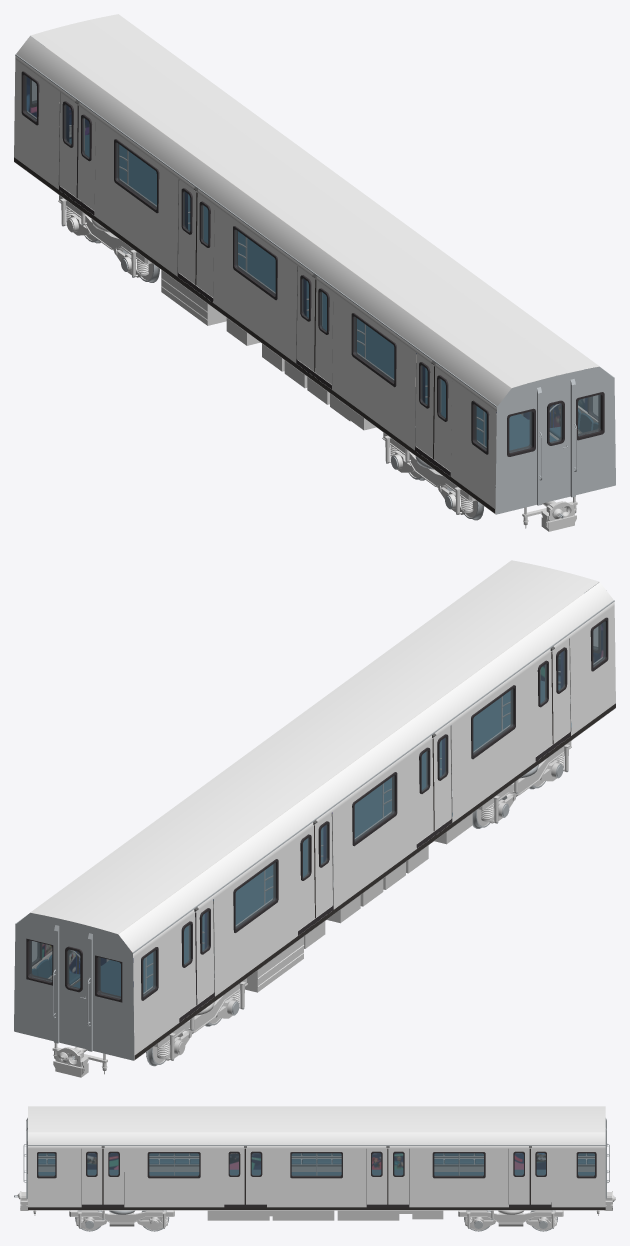
The model's file is car-7.glb.
The picture shows the model from 3 angles, top to bottom: view 1: azimuth 30°, elevation 25°; view 2: azimuth 150°, elevation 25°; view 3: azimuth 270°, elevation 25°; orthographic projection. The views are drawn at different scales.
Visible parts, largest first — view 1: Mesh492.054, Mesh589.006, Mesh253.011, Mesh560.006, Mesh524.012, Cube.456, Cube.457, Cube.455, Mesh11.006, Mesh511.006, Mesh31.006, Cube.494 (+8 smaller); view 2: Mesh492.054, Mesh589.006, Mesh584.006, Mesh253.012, Mesh510.012, Cube.455, Cube.456, Cube.457, Mesh11.006, Mesh511.006, Mesh27.006, Cube.505 (+8 smaller); view 3: Mesh492.054, Mesh492.055, Cube.449, Cube.450, Cube.448, Mesh589.006, Mesh5.006, Mesh4.006, Mesh9.006, Mesh256.006, Mesh278.006, Mesh283.006 (+24 smaller).
Part boxes in pixels (left/top/right/bottom): Mesh492.054: left=14, top=14, right=599, bottom=514; Mesh589.006: left=69, top=134, right=556, bottom=450; Mesh253.011: left=495, top=376, right=555, bottom=514; Mesh560.006: left=555, top=366, right=615, bottom=499; Mesh524.012: left=542, top=395, right=570, bottom=493; Cube.456: left=235, top=230, right=275, bottom=295; Cube.457: left=116, top=143, right=156, bottom=208; Cube.455: left=354, top=316, right=394, bottom=382; Mesh11.006: left=161, top=270, right=226, bottom=325; Mesh511.006: left=15, top=54, right=497, bottom=407; Mesh31.006: left=541, top=500, right=576, bottom=531; Cube.494: left=578, top=394, right=600, bottom=436; Mesh492.054: left=30, top=560, right=615, bottom=1060; Mesh589.006: left=73, top=681, right=571, bottom=995; Mesh584.006: left=74, top=922, right=134, bottom=1060; Mesh253.012: left=14, top=913, right=73, bottom=1045; Mesh510.012: left=59, top=941, right=87, bottom=1039; Cube.455: left=473, top=689, right=513, bottom=754; Cube.456: left=354, top=775, right=394, bottom=841; Cube.457: left=235, top=862, right=275, bottom=928; Mesh11.006: left=245, top=937, right=303, bottom=992; Mesh511.006: left=132, top=600, right=614, bottom=953; Mesh27.006: left=53, top=1047, right=88, bottom=1077; Cube.505: left=29, top=940, right=52, bottom=981; Mesh492.054: left=28, top=1106, right=605, bottom=1210; Mesh492.055: left=87, top=1153, right=545, bottom=1169; Cube.449: left=291, top=1153, right=341, bottom=1175; Cube.450: left=149, top=1153, right=199, bottom=1175; Cube.448: left=434, top=1153, right=483, bottom=1175; Mesh589.006: left=38, top=1170, right=594, bottom=1175; Mesh5.006: left=207, top=1210, right=269, bottom=1220; Mesh4.006: left=337, top=1210, right=399, bottom=1220; Mesh9.006: left=272, top=1210, right=334, bottom=1220; Mesh256.006: left=511, top=1210, right=563, bottom=1229; Mesh278.006: left=122, top=1210, right=174, bottom=1229; Mesh283.006: left=69, top=1210, right=121, bottom=1229.
Bounding box in the file's own units: 2.67 × 3.63 × 19.13.
58 materials, 1 textured.
